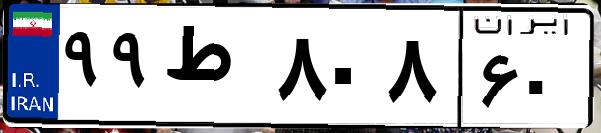0: (330, 28, 385, 110), (525, 38, 570, 115)
6: (475, 38, 525, 113)
8: (270, 28, 330, 110), (385, 28, 445, 110)
9: (57, 26, 110, 100), (110, 28, 158, 98)
ط: (158, 20, 270, 120)
